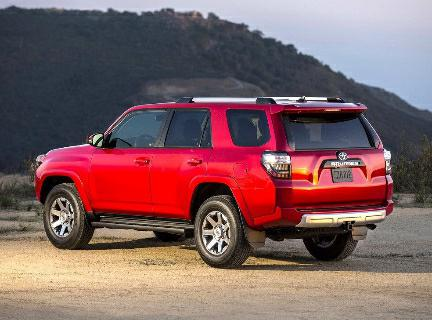丰田-4Runner: (30, 91, 399, 278)
